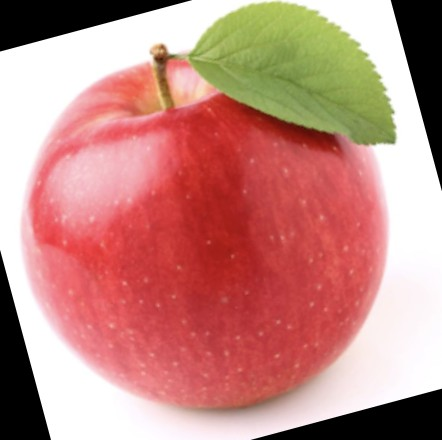fresh_apple: (22, 52, 388, 409)
